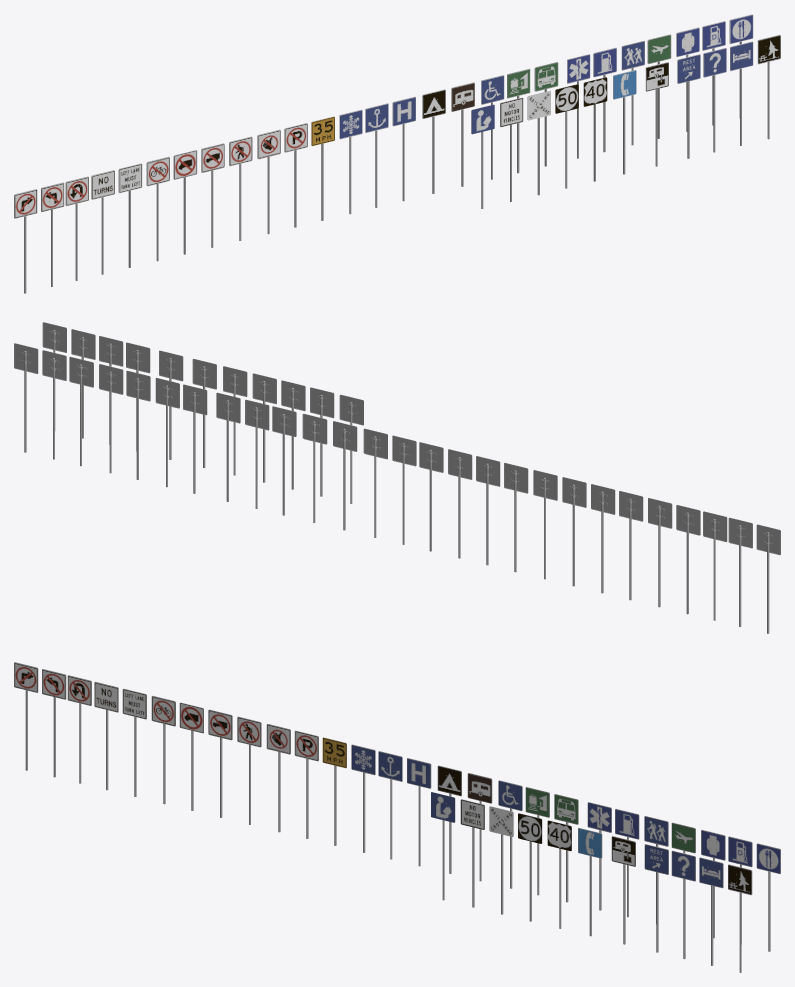
Rendered from signs_3.fbx.
3 renders of one model, top to bottom at view 1: azimuth 30°, elevation 25°; view 2: azimuth 150°, elevation 25°; view 3: azimuth 330°, elevation 25°, orthographic. The views are drawn at different scales.
Parts seen in each view (by area): view 1: sign_159, sign_188, sign_161, sign_166, sign_189, sign_184, sign_182, sign_170, sign_169, sign_167, sign_165, sign_164 (+26 smaller); view 2: sign_171, sign_181, sign_178, sign_175, sign_174, sign_172, sign_168, sign_162, sign_161, sign_158, sign_170, sign_167 (+26 smaller); view 3: sign_193, sign_189, sign_184, sign_182, sign_159, sign_156, sign_185, sign_169, sign_165, sign_162, sign_160, sign_158 (+26 smaller).
Part boxes in pixels (bbox=[...]): sign_159: bbox=[118, 163, 142, 267]; sign_188: bbox=[583, 77, 607, 181]; sign_161: bbox=[173, 150, 197, 254]; sign_166: bbox=[311, 116, 334, 220]; sign_189: bbox=[555, 84, 578, 188]; sign_184: bbox=[703, 48, 726, 152]; sign_182: bbox=[757, 34, 780, 139]; sign_170: bbox=[422, 89, 445, 193]; sign_169: bbox=[392, 96, 415, 201]; sign_167: bbox=[339, 109, 362, 214]; sign_165: bbox=[284, 123, 307, 227]; sign_164: bbox=[257, 129, 280, 234]; sign_171: bbox=[302, 413, 327, 522]; sign_181: bbox=[14, 343, 38, 452]; sign_178: bbox=[99, 364, 123, 473]; sign_175: bbox=[183, 384, 207, 493]; sign_174: bbox=[216, 392, 240, 501]; sign_172: bbox=[272, 406, 296, 515]; sign_168: bbox=[392, 435, 416, 544]; sign_162: bbox=[562, 477, 586, 586]; sign_161: bbox=[591, 484, 615, 593]; sign_158: bbox=[676, 505, 700, 614]; sign_170: bbox=[333, 421, 357, 530]; sign_167: bbox=[419, 442, 443, 551]; sign_193: bbox=[431, 792, 455, 900]; sign_189: bbox=[518, 813, 542, 921]; sign_184: bbox=[671, 850, 695, 959]; sign_182: bbox=[728, 864, 752, 972]; sign_159: bbox=[122, 688, 146, 796]; sign_156: bbox=[42, 669, 66, 777]; sign_185: bbox=[644, 844, 668, 952]; sign_169: bbox=[407, 758, 431, 866]; sign_165: bbox=[294, 730, 318, 838]; sign_162: bbox=[208, 709, 232, 817]; sign_160: bbox=[151, 695, 175, 804]; sign_158: bbox=[94, 681, 118, 790].
Bounding box in the file's own units: 15.92 × 2.1 × 1.09.
